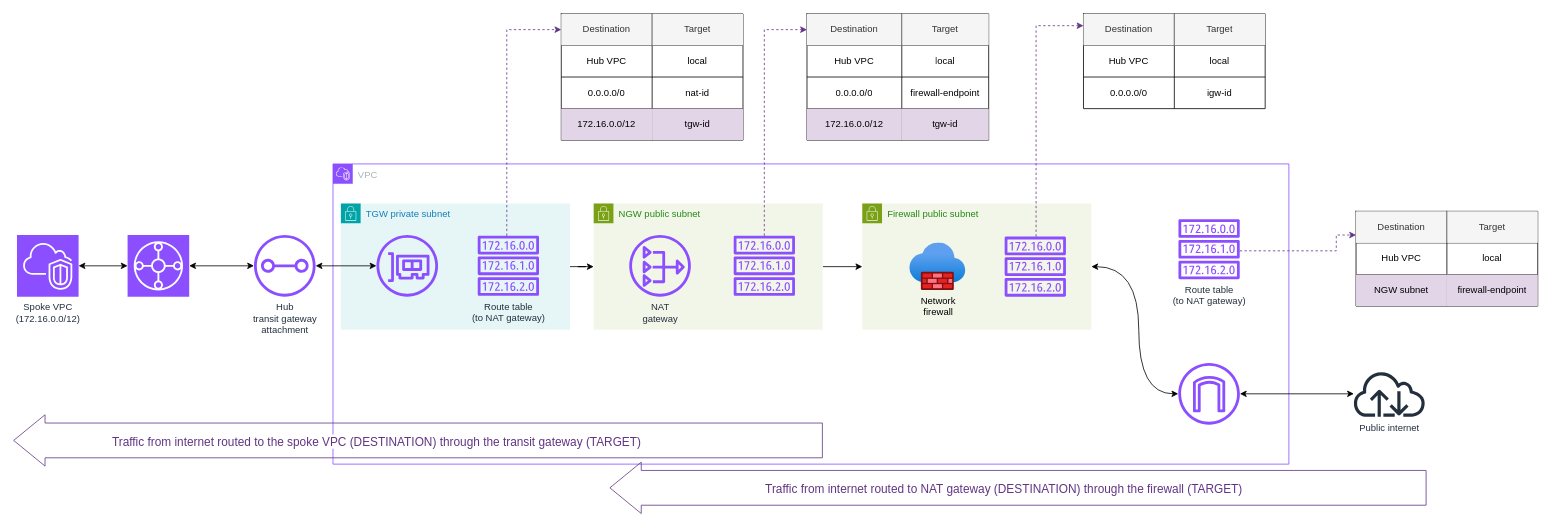
Some shapes in this 1552 by 528 pixel diagram are drawn without their labels. The box of each missing label's shape, as (x1, y1, x2, y2) in pixels:
Internet gateway: (1178, 363, 1240, 424)
Route table (to firewall endpoint): (733, 235, 795, 295)
Route table (to internet gateway): (1004, 236, 1066, 296)
Transit gateway: (127, 234, 189, 297)
Transit gateway network interface: (376, 235, 438, 296)
